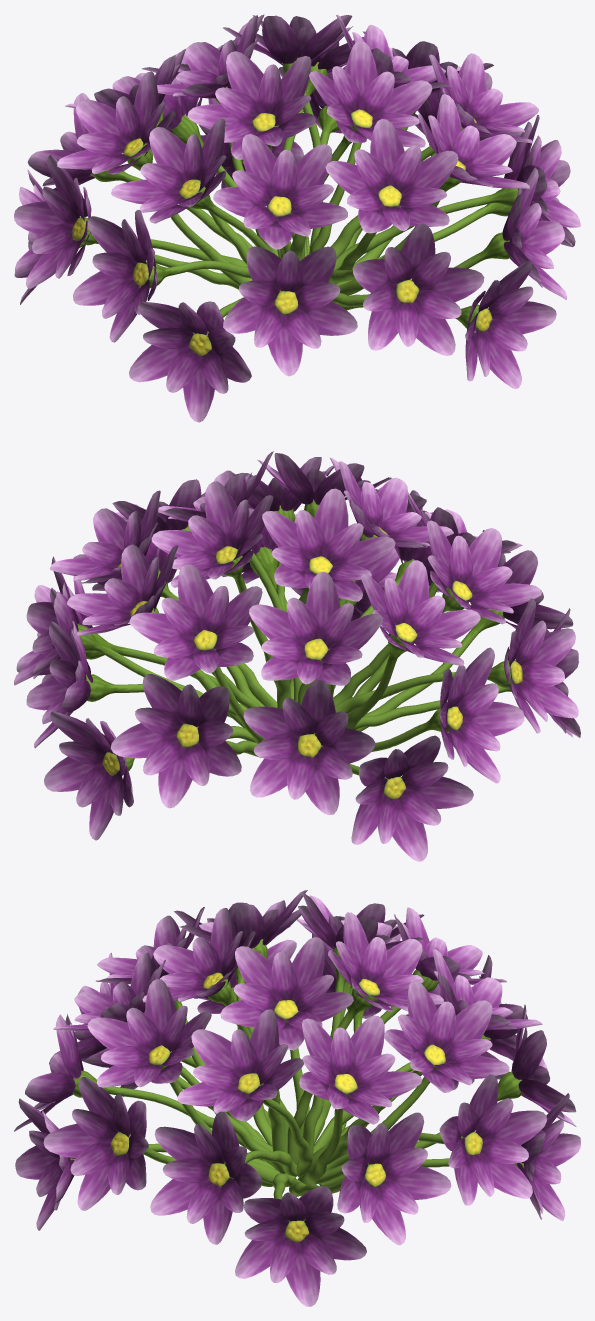
File: 3december_7_flower_bouquet.glb
3 views of the same model, one above another, from view 1: azimuth 30°, elevation 25°; view 2: azimuth 150°, elevation 25°; view 3: azimuth 270°, elevation 25° (orthographic).
Visible parts, largest first — view 1: Plane 6_0, Tube 2_1; view 2: Plane 6_0, Tube 2_1; view 3: Plane 6_0, Tube 2_1.
Part boxes in pixels (x1,y1,x2,y2): Plane 6_0: (14, 14, 580, 422); Tube 2_1: (72, 57, 518, 355); Plane 6_0: (14, 451, 580, 861); Tube 2_1: (77, 499, 522, 799); Plane 6_0: (14, 890, 580, 1306); Tube 2_1: (70, 939, 524, 1242).
Size of the model in its own units: 2.25 by 1.25 by 2.31.
2 materials, 2 textured.
